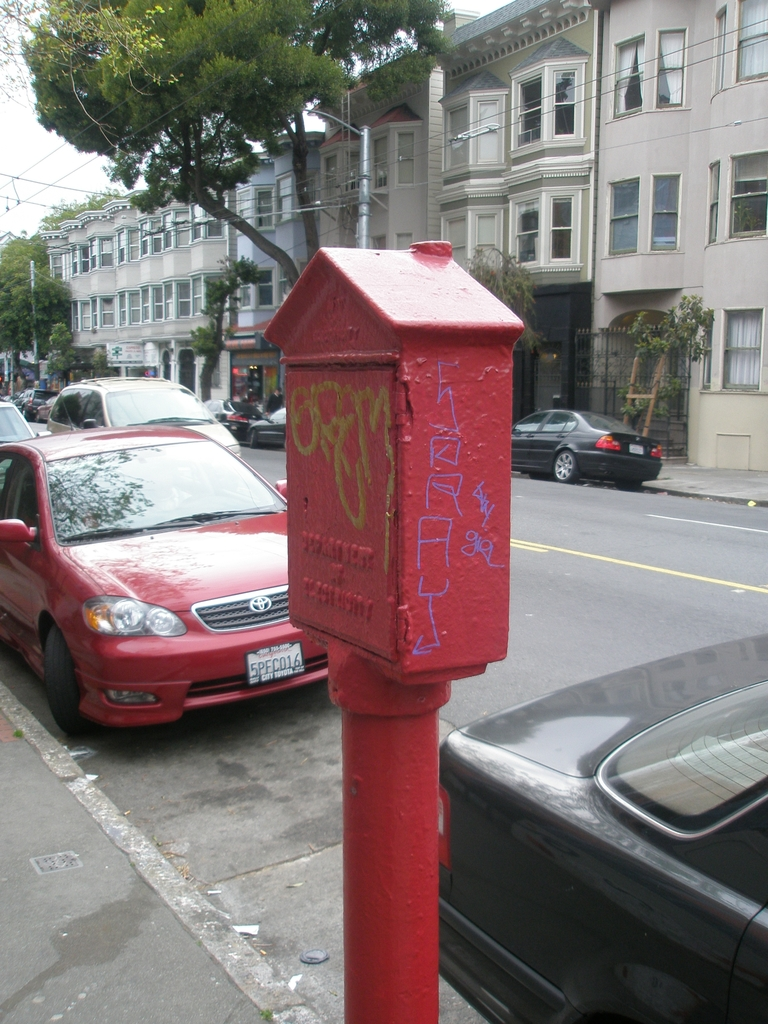Car: (437, 630, 766, 1023), (0, 420, 332, 740), (44, 371, 236, 464), (505, 413, 663, 488), (0, 399, 45, 441), (243, 406, 287, 446), (204, 397, 238, 434)
